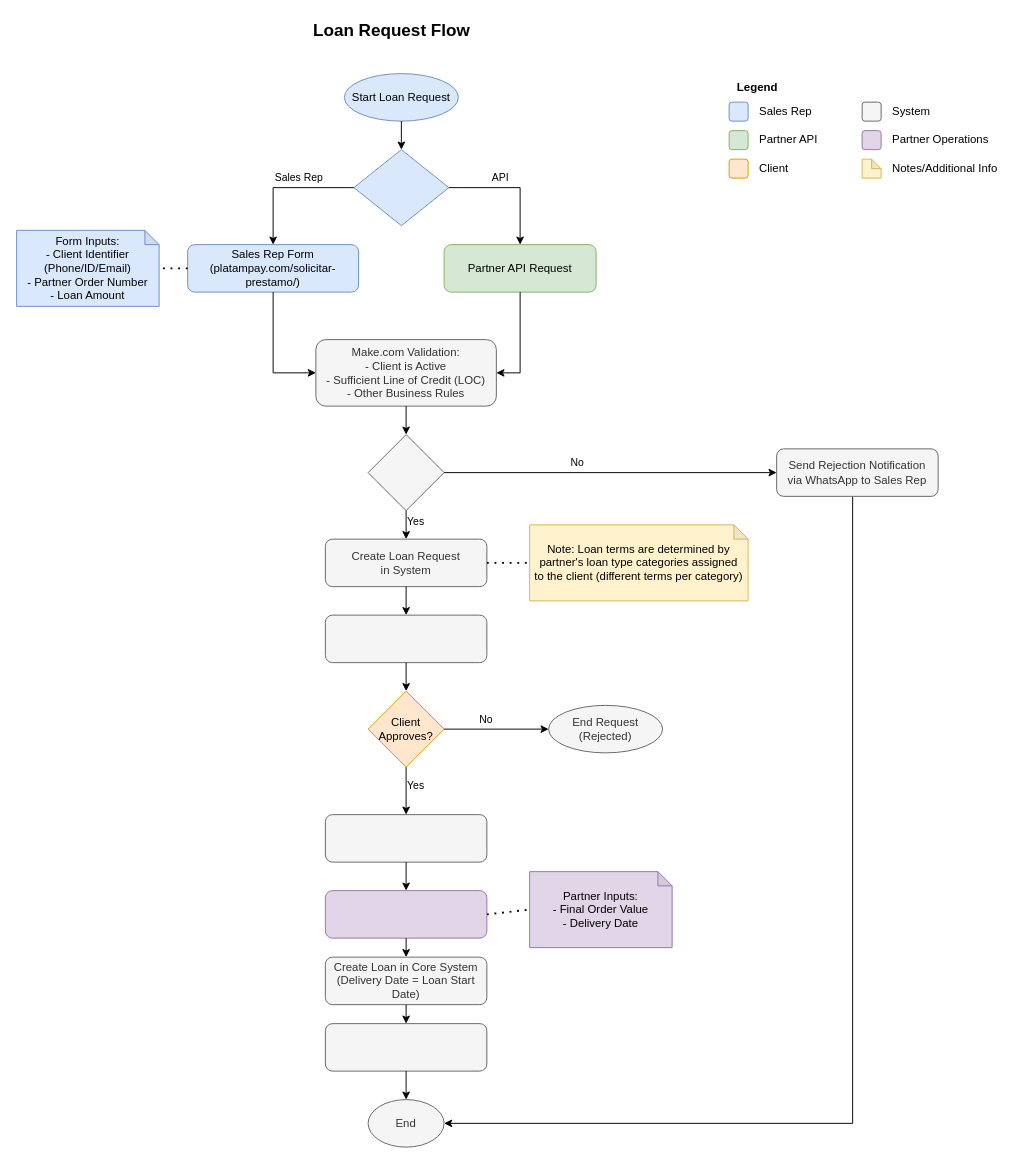
The diagram is 1021 pixels wide and 1164 high, and some of its shapes have lost their labels. The shapes that lost their labels are listed below. From the top down, each one's box as (x1, y1, x2, y2) in pixels, then its label:
(353, 149, 449, 226): Entry Method?
(367, 434, 444, 511): Valid?
(324, 614, 487, 663): Send Loan Request Details via WhatsApp to Client
(324, 814, 487, 862): Change Status to Awaiting Partner Confirmation
(324, 890, 487, 938): Partner Confirms Delivery via Portal or API
(324, 1023, 487, 1071): Send Credit Voucher via WhatsApp to Client
